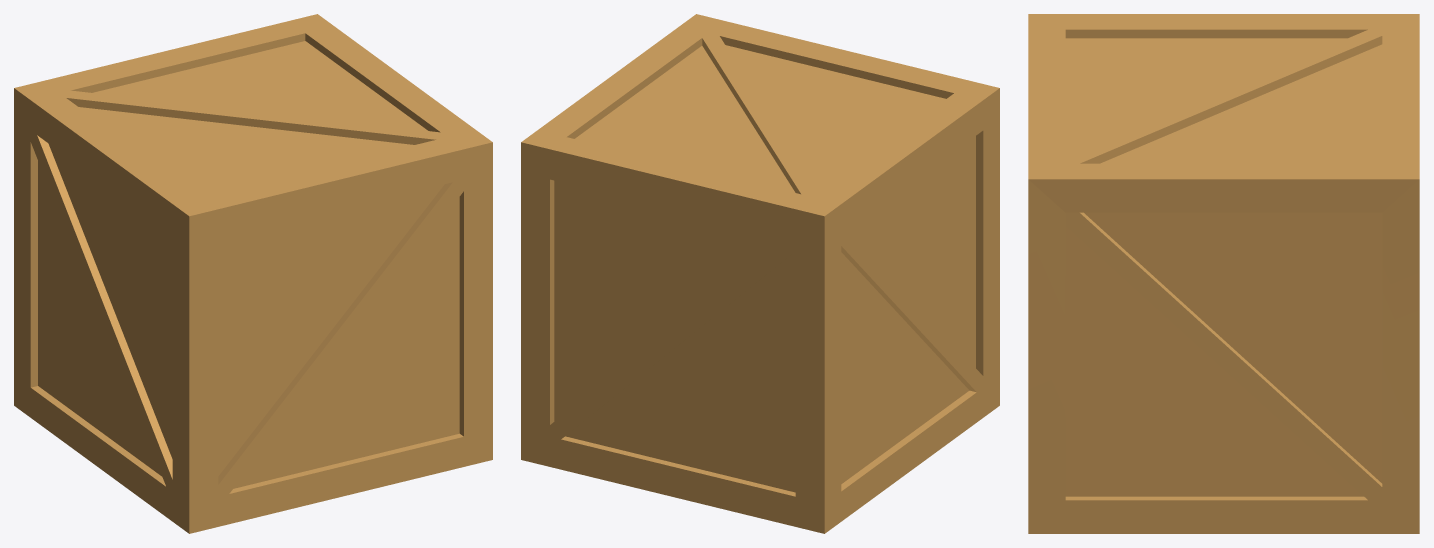
The picture shows the model from 3 angles, left to right: view 1: azimuth 30°, elevation 25°; view 2: azimuth 150°, elevation 25°; view 3: azimuth 270°, elevation 25°; orthographic projection. The views are drawn at different scales.
Visible parts, largest first — view 1: Box_01_b; view 2: Box_01_b; view 3: Box_01_b.
Boxes of the visible parts, box(x1,y1,x2,y2) form: Box_01_b: box(14, 14, 492, 533); Box_01_b: box(521, 14, 999, 533); Box_01_b: box(1028, 14, 1419, 533).
Size of the model in its own units: 18.61 by 18.61 by 18.61.
